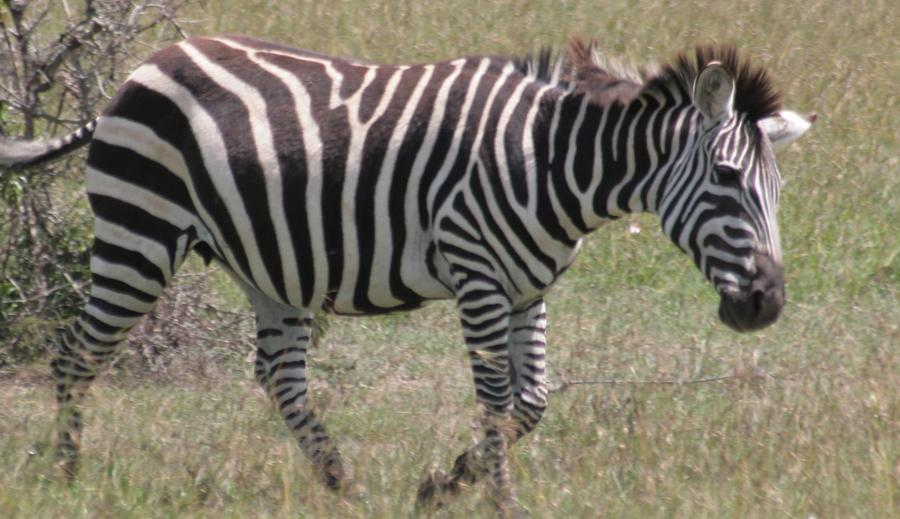zebra_plains: (68, 51, 597, 278)
